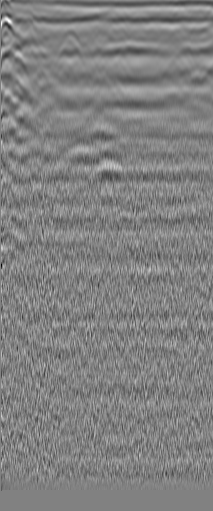오수: (12, 28, 40, 57)
우수: (171, 41, 191, 61)
